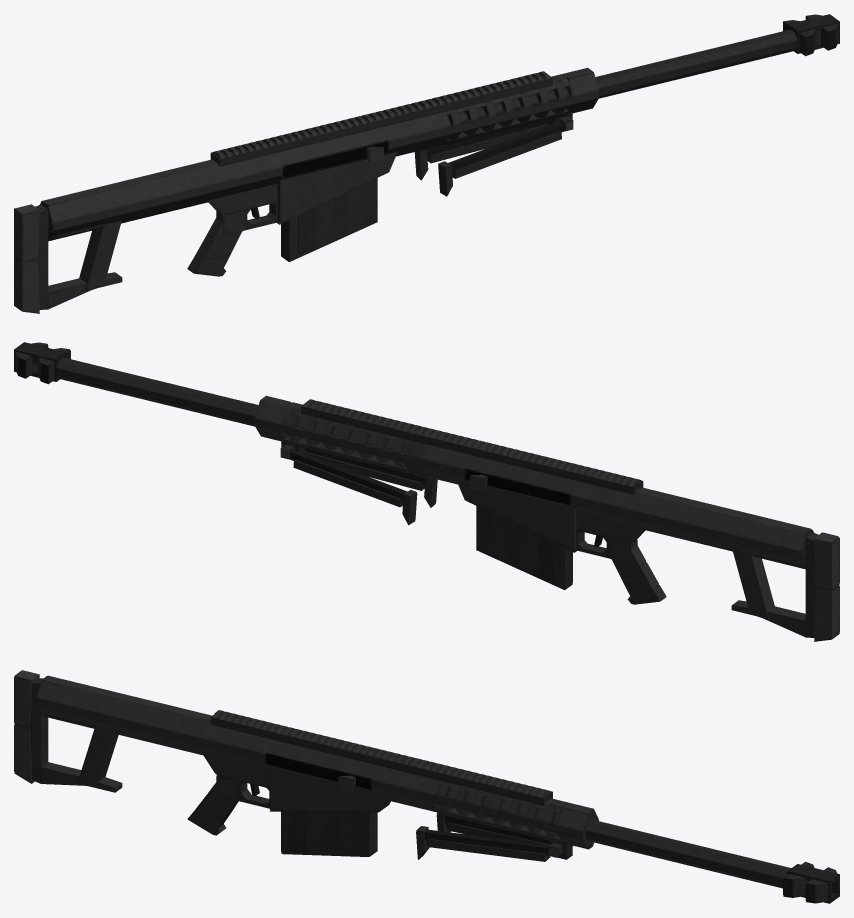
File: barrett.obj
3 views of the same model, one above another, from view 1: azimuth 30°, elevation 25°; view 2: azimuth 150°, elevation 25°; view 3: azimuth 330°, elevation 25° (orthographic).
Visible parts, largest first — view 1: gunModel2, gunModel1, gunModel5, gunModel4, ammoModel0, gunModel95, gunModel3, gunModel31, gunModel97, gunModel36, gunModel37, gunModel111 (+14 smaller); view 2: gunModel2, gunModel1, gunModel5, gunModel4, ammoModel0, gunModel95, gunModel3, gunModel31, gunModel97, gunModel36, gunModel37, gunModel111 (+14 smaller); view 3: gunModel2, gunModel1, gunModel5, ammoModel0, gunModel4, gunModel95, gunModel3, gunModel97, gunModel31, gunModel35, gunModel111, gunModel25 (+18 smaller).
Part boxes in pixels (box(x1,y1,x2,y2)): gunModel2: box(40, 111, 450, 223); gunModel1: box(48, 91, 598, 231); gunModel5: box(210, 73, 552, 166); gunModel4: box(269, 151, 397, 224); ammoModel0: box(281, 178, 377, 261); gunModel95: box(448, 29, 797, 123); gunModel3: box(48, 134, 450, 241); gunModel31: box(79, 220, 121, 291); gunModel97: box(598, 40, 797, 95); gunModel36: box(14, 204, 39, 262); gunModel37: box(14, 257, 39, 313); gunModel111: box(282, 140, 389, 177); gunModel2: box(403, 439, 813, 551); gunModel1: box(255, 419, 805, 559); gunModel5: box(301, 401, 643, 494); gunModel4: box(456, 479, 584, 552); ammoModel0: box(476, 506, 572, 589); gunModel95: box(56, 357, 405, 451); gunModel3: box(403, 462, 805, 569); gunModel31: box(732, 548, 774, 619); gunModel97: box(56, 368, 255, 423); gunModel36: box(814, 532, 839, 590); gunModel37: box(814, 585, 839, 641); gunModel111: box(464, 468, 571, 505); gunModel2: box(36, 675, 440, 795); gunModel1: box(36, 698, 598, 838); gunModel5: box(210, 711, 552, 805); ammoModel0: box(281, 811, 377, 856); gunModel4: box(269, 767, 390, 812); gunModel95: box(438, 787, 791, 878); gunModel3: box(37, 706, 439, 812); gunModel97: box(585, 830, 783, 885); gunModel31: box(77, 726, 118, 787); gunModel35: box(30, 678, 48, 783); gunModel111: box(265, 752, 372, 789); gunModel25: box(424, 829, 549, 855).
Bounding box in the file's own units: 46.2 × 6.65 × 3.1.
